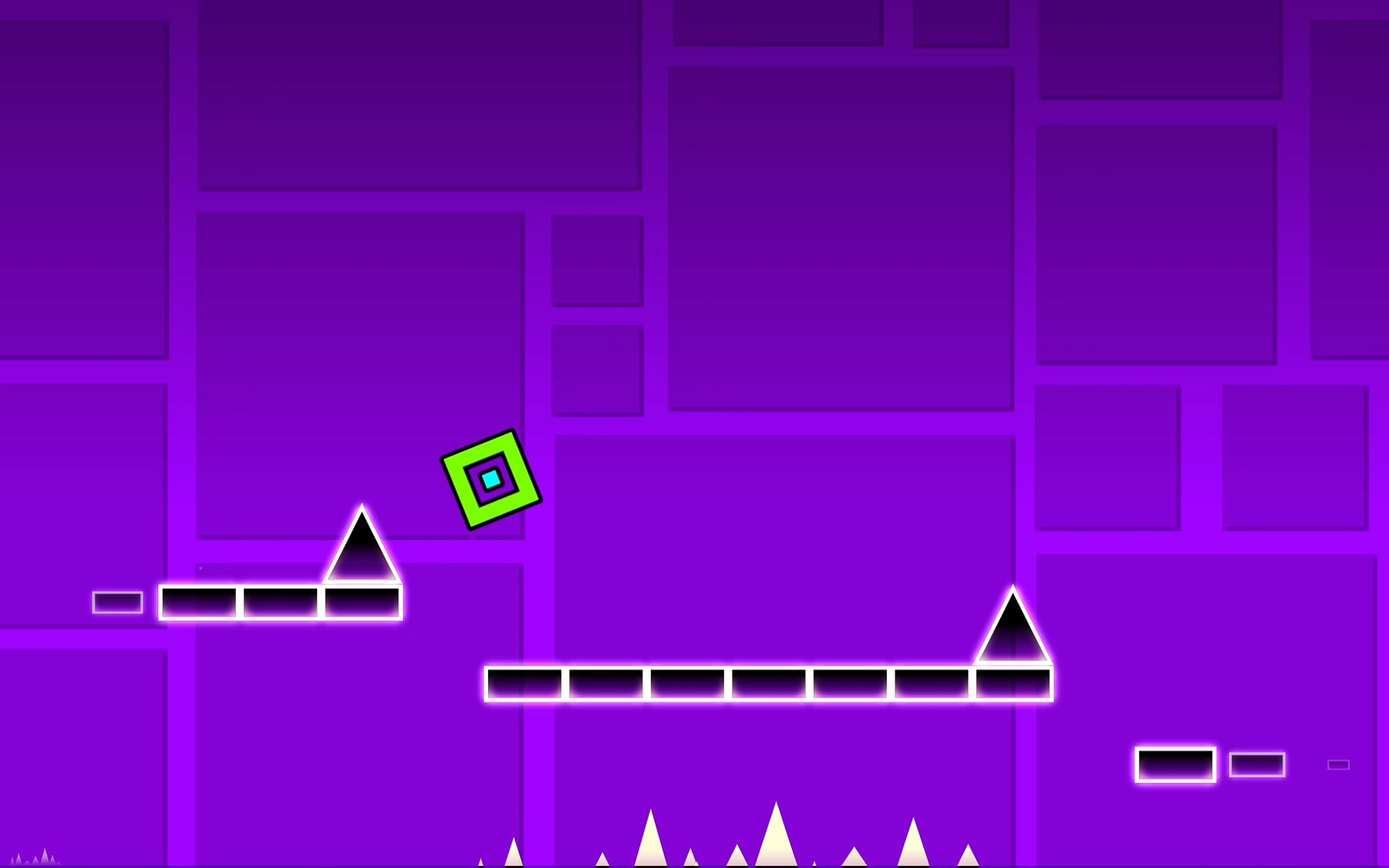Block3: (1137, 747, 1218, 783), (162, 585, 243, 619), (246, 585, 323, 618), (325, 585, 399, 618), (977, 668, 1052, 700), (895, 667, 968, 698), (487, 667, 559, 698), (652, 667, 723, 698), (732, 669, 804, 698), (814, 669, 886, 698), (569, 669, 641, 697), (1229, 752, 1285, 778), (93, 593, 143, 616)
Player: (443, 432, 543, 532)
Spike: (975, 586, 1053, 665), (327, 505, 404, 581)
